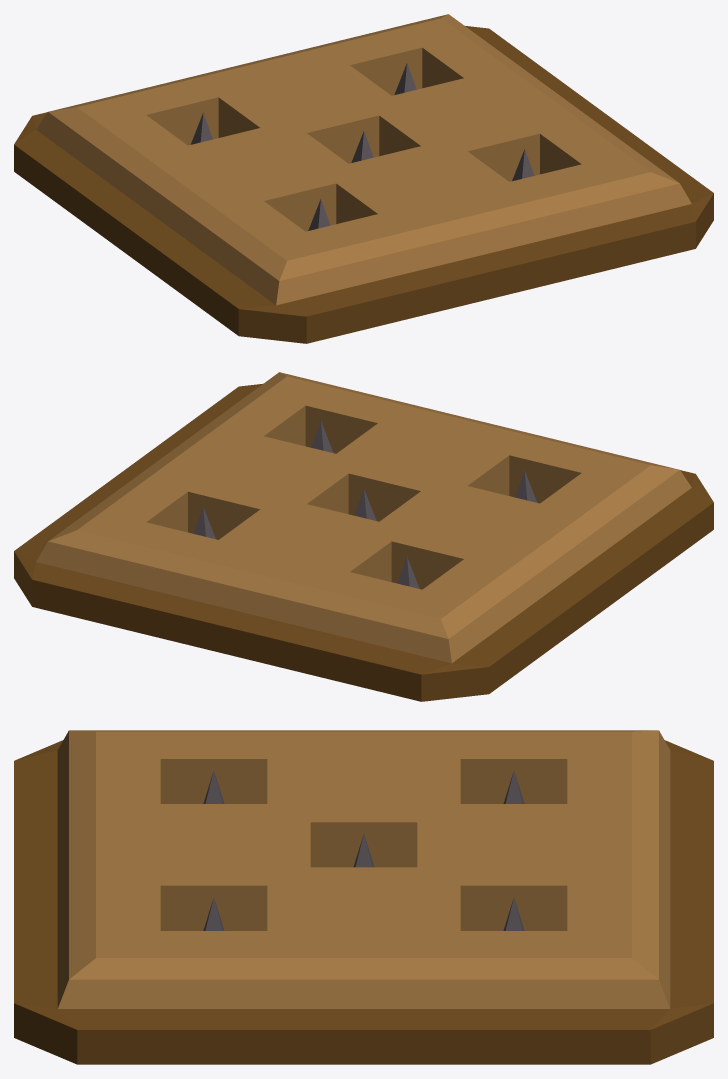
The model's file is TrapSpear.glb.
3 renders of one model, top to bottom at view 1: azimuth 30°, elevation 25°; view 2: azimuth 150°, elevation 25°; view 3: azimuth 270°, elevation 25°, orthographic. The views are drawn at different scales.
Visible parts, largest first — view 1: TrapSpear; view 2: TrapSpear; view 3: TrapSpear.
Boxes of the visible parts, bbox=[...] form: TrapSpear: bbox=[14, 14, 713, 343]; TrapSpear: bbox=[14, 372, 713, 701]; TrapSpear: bbox=[14, 730, 713, 1064].
Bounding box in the file's own units: 1.28 × 0.2245 × 1.28.
